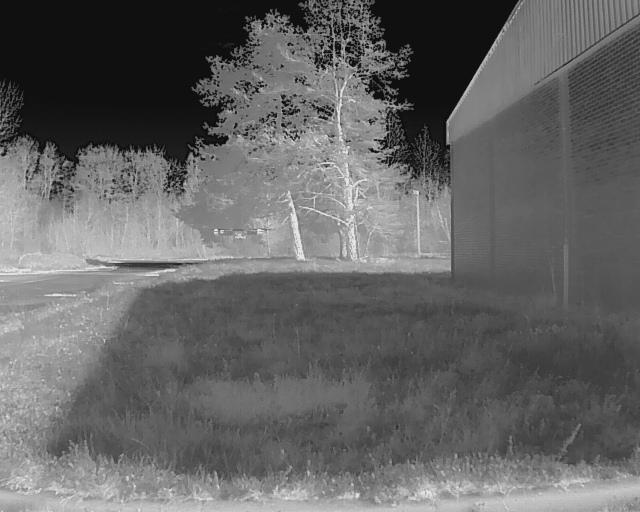drone: (197, 223, 281, 248)
